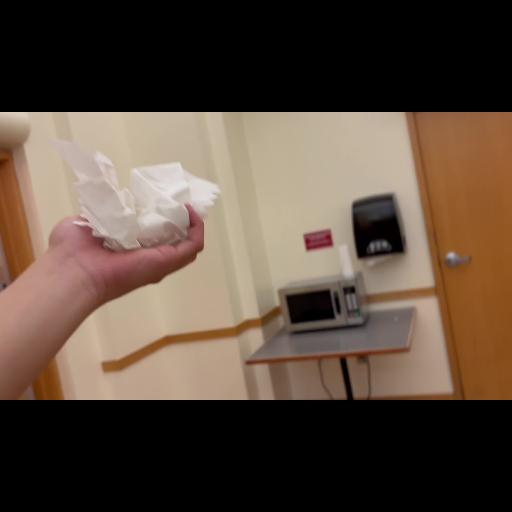napkin: (61, 143, 217, 265)
